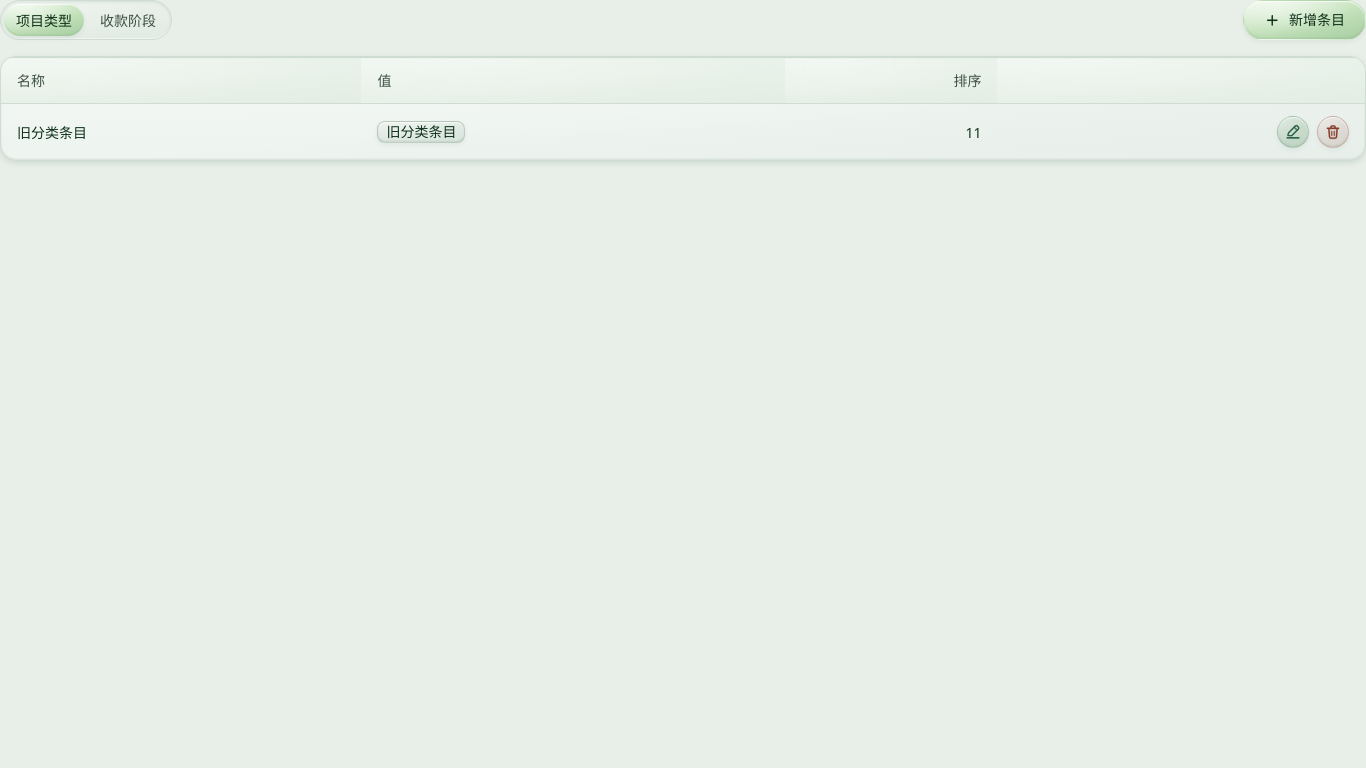
Scenario: DictionaryManagement request integrity › does not reload the old dictionary when a deletion finishes after switching categories
The image size is (1366, 768).
Click the button named "删除字典条目" at (1333, 132), box top-left (1317, 116), bottom-right (1349, 148)
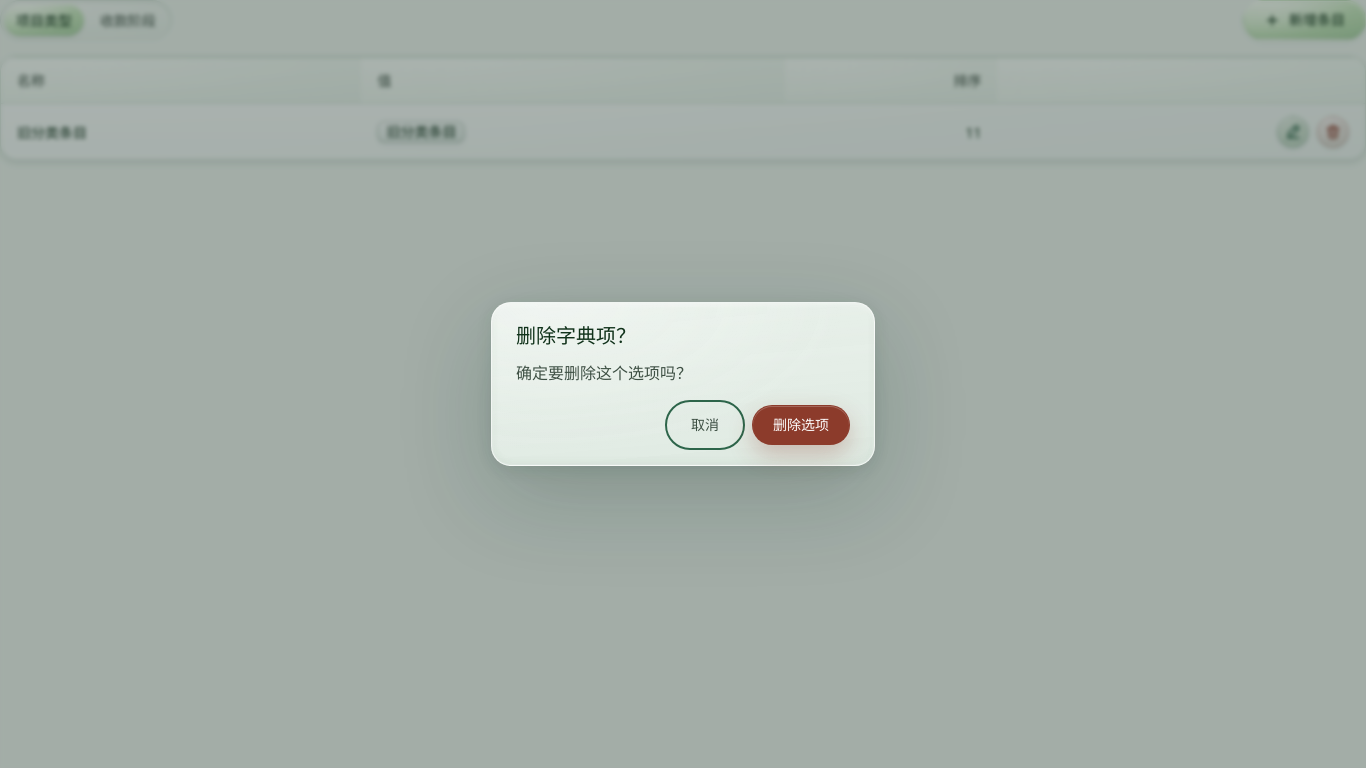
Click the button "删除选项" at (801, 425), box top-left (752, 405), bottom-right (850, 445)
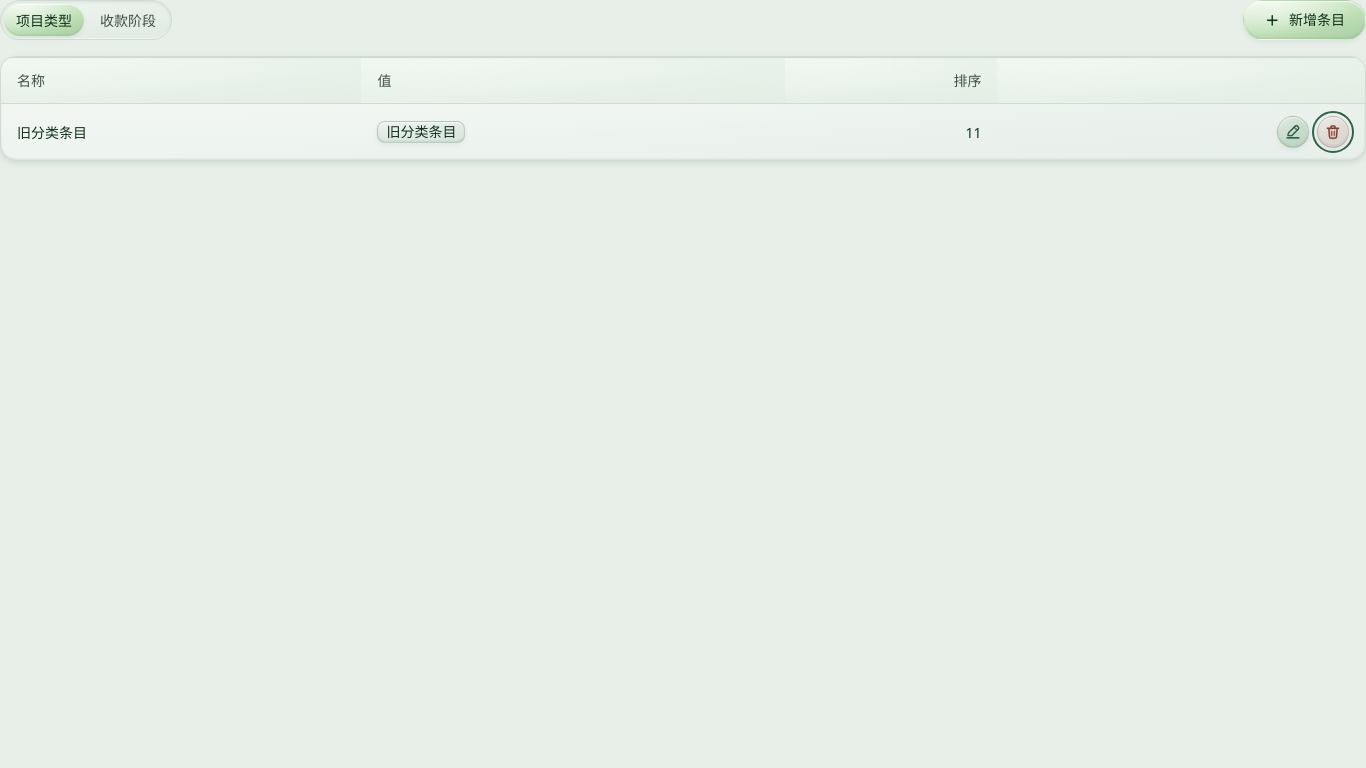
Click the tab "收款阶段" at (128, 20), box top-left (88, 4), bottom-right (168, 36)
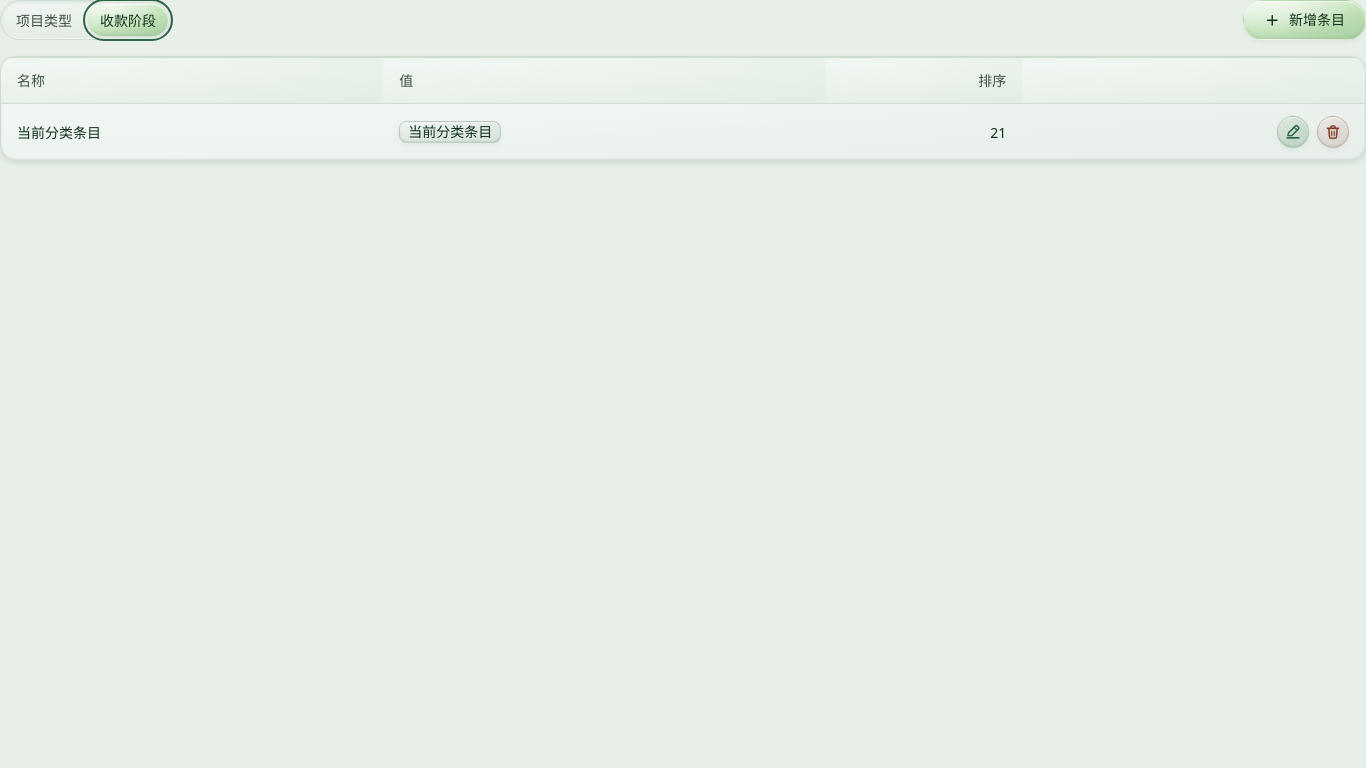
expect the row "当前分类条目 当前分类条目 21" is shown: met, box top-left (1, 104), bottom-right (1365, 160)
